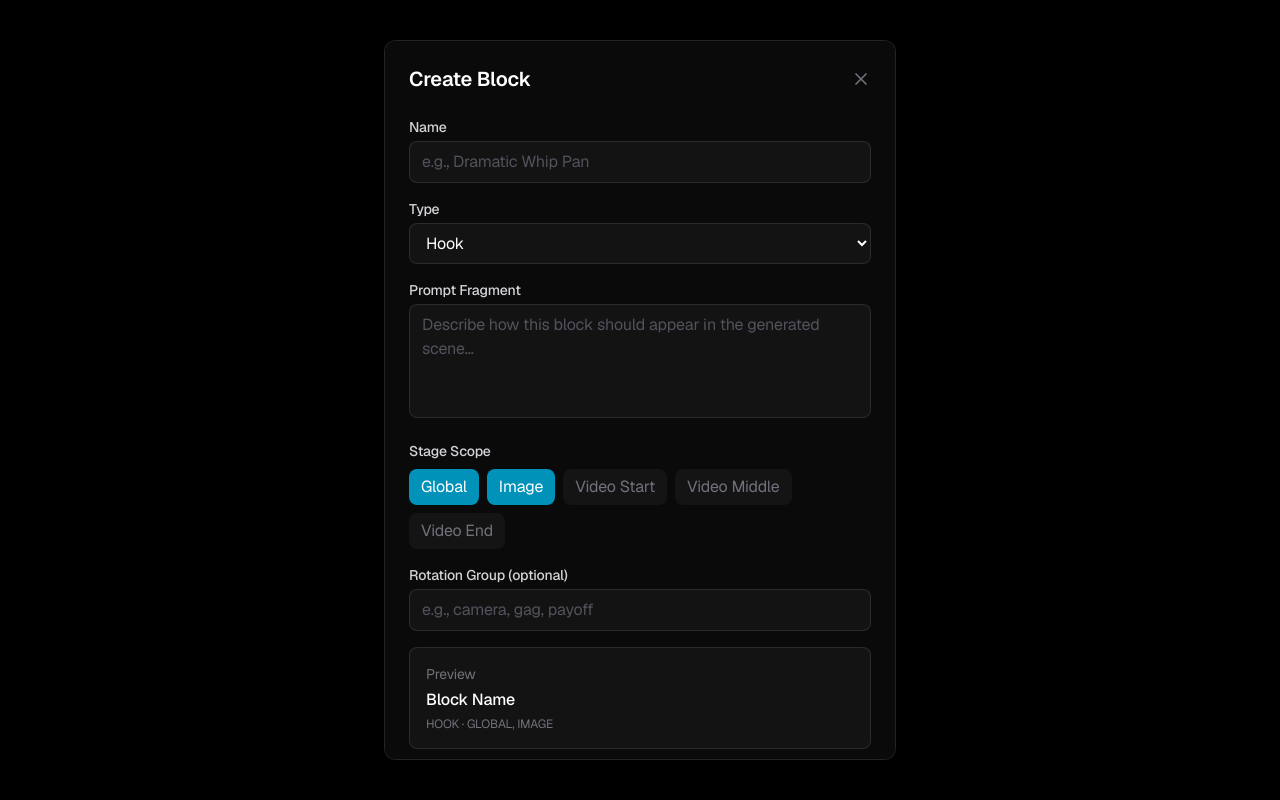
CreateBlockModal › Form Validation › shows error when prompt fragment is too short
Type "Valid Name" into the field labelled "Name" at (640, 162), box [409,141,871,183]
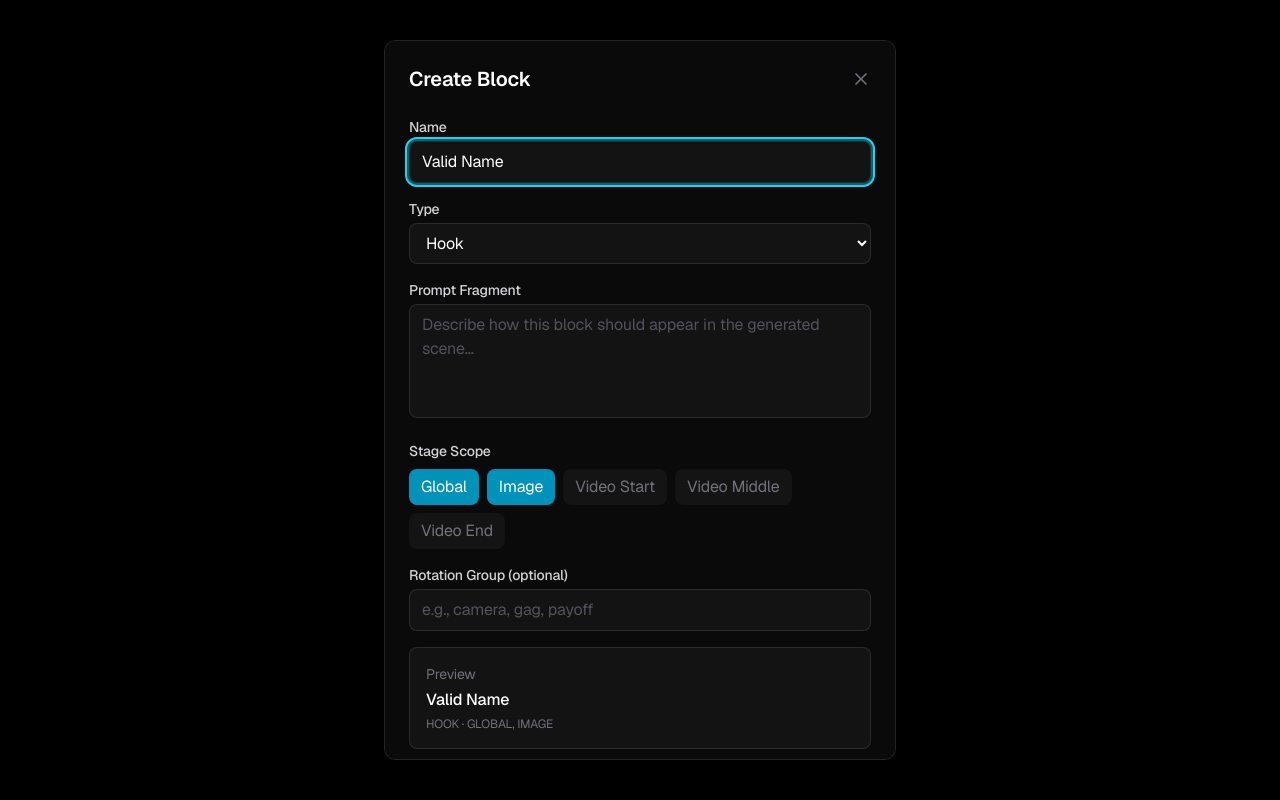
Type "short" into the text box labelled "Prompt Fragment" at (640, 361), box [409,304,871,418]
(page scrolled)
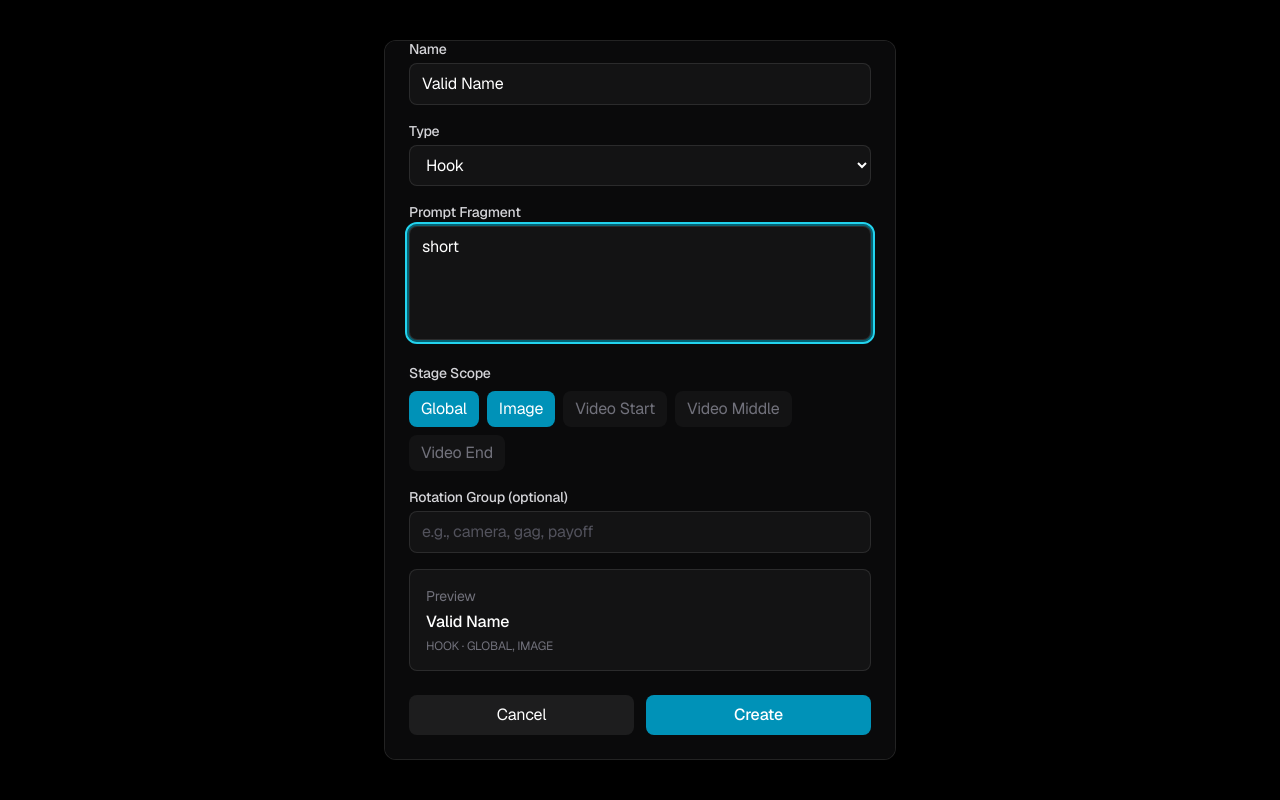
Click the button "Create" at (758, 715), box [646,695,871,735]
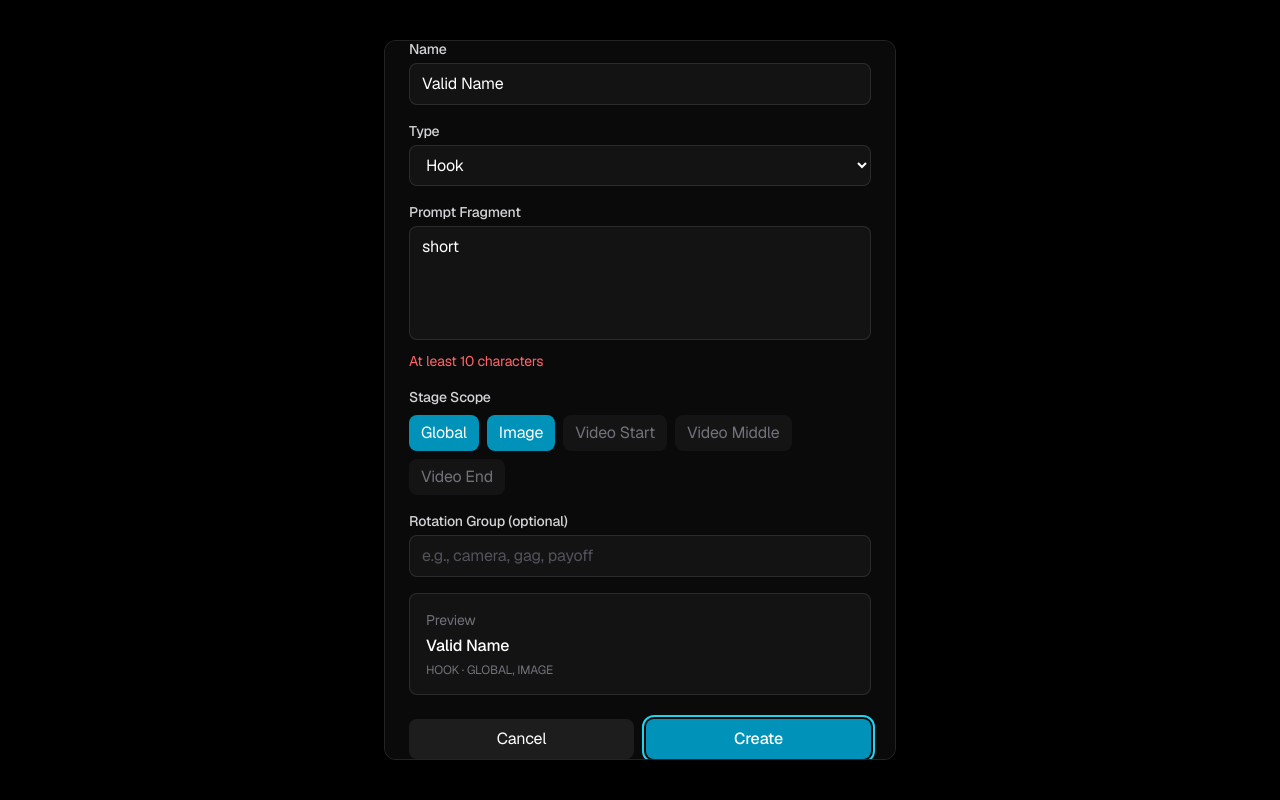
Result: the text "At least 10 characters" is shown at [409,352,544,370]
